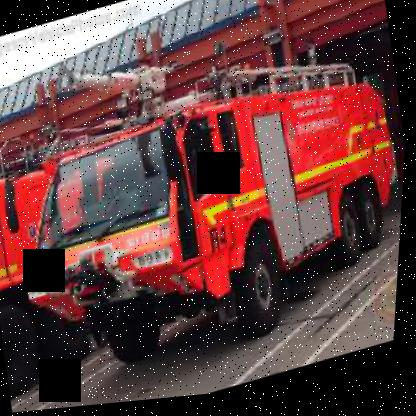emergency: (0, 8, 413, 401)
